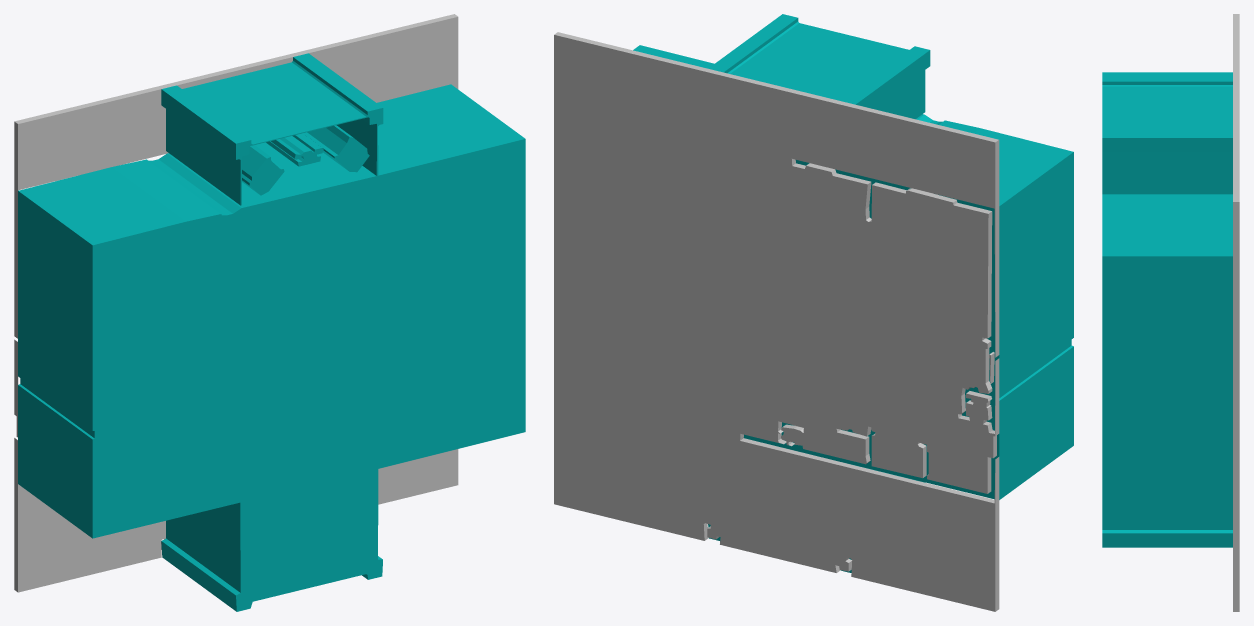
3 renders of one model, left to right at view 1: azimuth 30°, elevation 25°; view 2: azimuth 150°, elevation 25°; view 3: azimuth 270°, elevation 25°, orthographic. The views are drawn at different scales.
Parts seen in each view (by area): view 1: world; view 2: world; view 3: world.
Part boxes in pixels (x1=…): world: x1=14, y1=14, x2=525, y2=611; world: x1=554, y1=14, x2=1073, y2=611; world: x1=1102, y1=14, x2=1239, y2=611.
Size of the model in its own units: 10.23 by 10.4 by 3.15.
